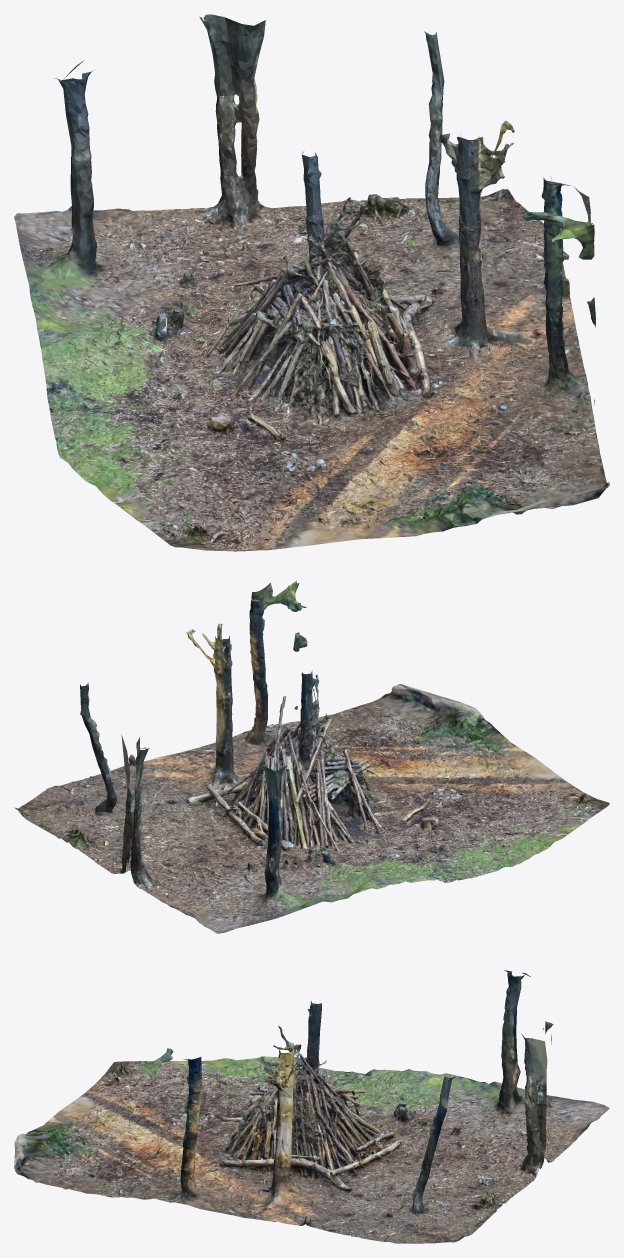
Rendered from branchshelterinsmallclearing.glb.
The picture shows the model from 3 angles, top to bottom: view 1: azimuth 30°, elevation 25°; view 2: azimuth 150°, elevation 25°; view 3: azimuth 270°, elevation 25°; orthographic projection. The views are drawn at different scales.
Visible parts, largest first — view 1: mesh_0; view 2: mesh_0; view 3: mesh_0.
Boxes of the visible parts, <box> form: mesh_0: <box>14,14,609,551</box>; mesh_0: <box>14,580,609,933</box>; mesh_0: <box>14,970,609,1243</box>.
Size of the model in its own units: 2.08 by 0.7781 by 2.62.
Materials: 1 (1 with a texture image).
